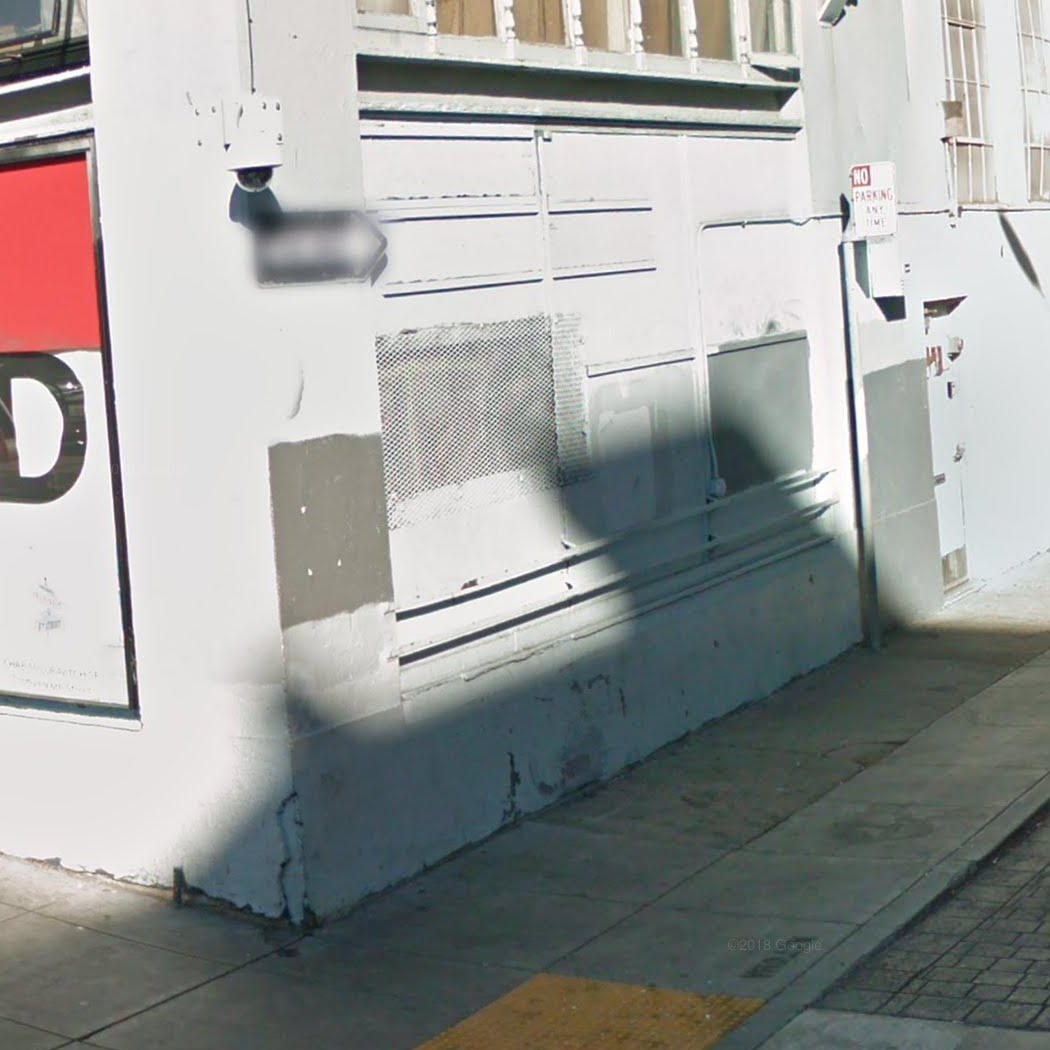No Parking: (849, 159, 900, 239)
